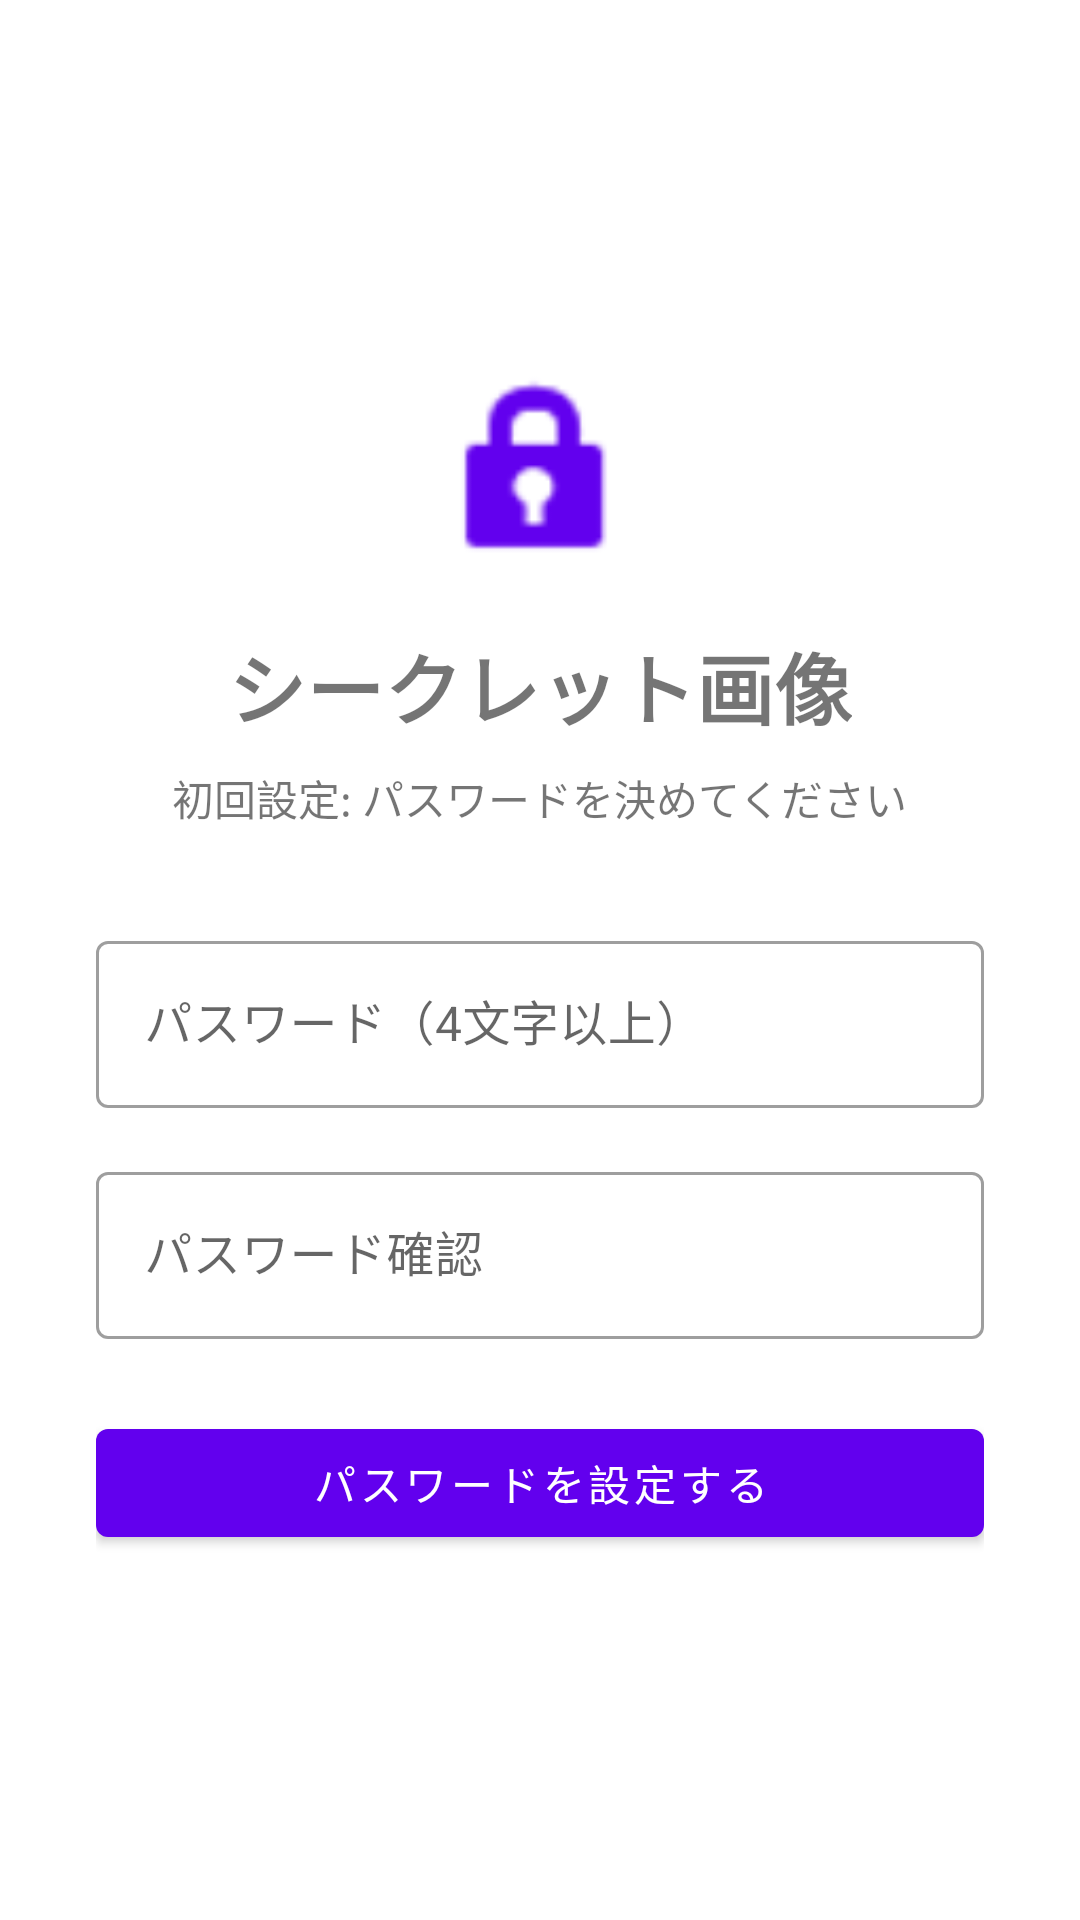

Icon click points for this 1080w x 1920h phone screenshot, format (x,y):
lock idle: (535,465)
